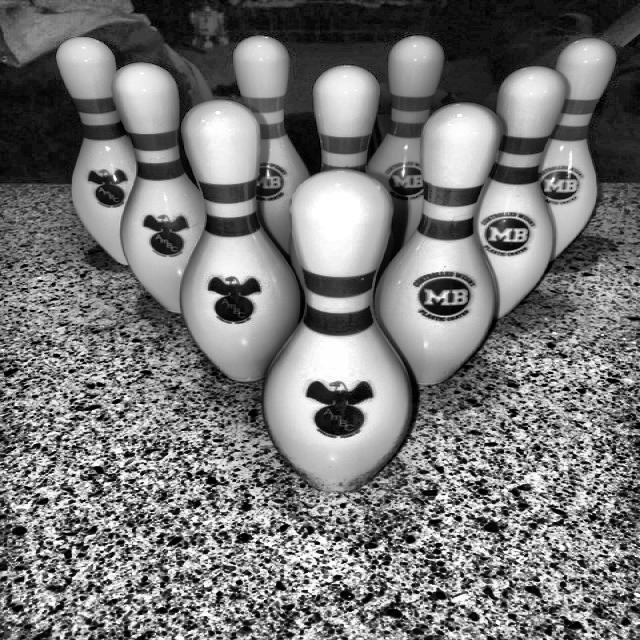bowling-pins: (263, 170, 412, 492), (180, 100, 300, 382), (56, 37, 136, 264), (368, 35, 444, 262), (315, 65, 380, 170)
